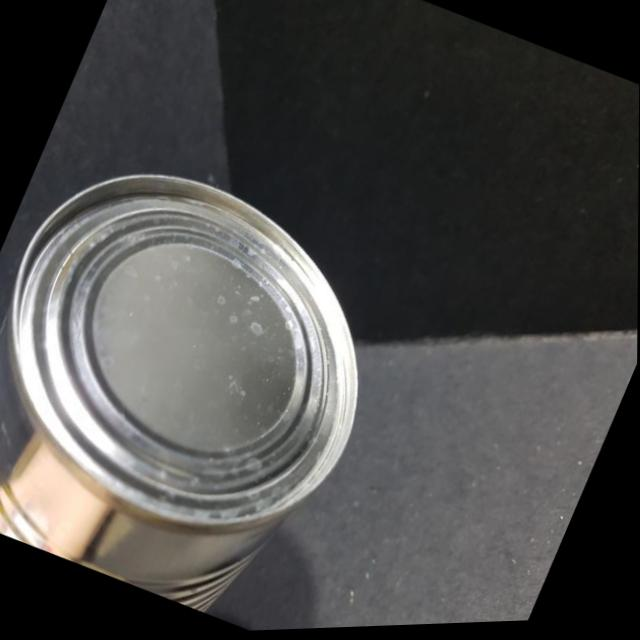metal: (0, 105, 426, 640)
